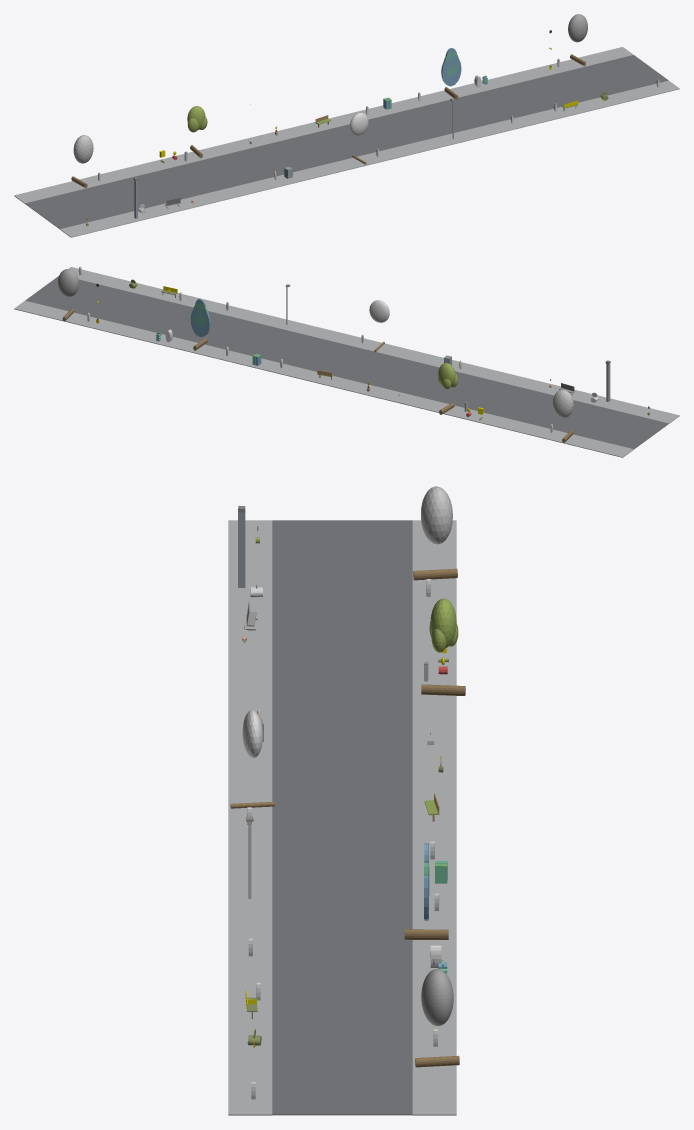
The picture shows the model from 3 angles, top to bottom: view 1: azimuth 30°, elevation 25°; view 2: azimuth 150°, elevation 25°; view 3: azimuth 270°, elevation 25°; orthographic projection. The views are drawn at different scales.
Visible parts, largest first — view 1: road_slab, sidewalk_left, sidewalk_right, inst_0015, inst_0012, inst_0016, inst_0013, inst_0014; view 2: road_slab, sidewalk_right, sidewalk_left, inst_0015, inst_0012, inst_0016, inst_0013, inst_0014; view 3: road_slab, sidewalk_left, sidewalk_right, inst_0012, inst_0016, inst_0013, inst_0014, inst_0015.
Part boxes in pixels (x1,y1,x2,y2): road_slab: (25,55,668,229); sidewalk_left: (60,80,679,237); sidewalk_right: (14,47,633,203); inst_0015: (441,48,461,99); inst_0012: (71,135,93,188); inst_0016: (568,14,587,66); inst_0013: (187,106,207,158); inst_0014: (350,112,368,164); road_slab: (25,276,668,449); sidewalk_right: (14,300,633,457); sidewalk_left: (68,267,679,423); inst_0015: (190,298,210,350); inst_0012: (552,389,573,442); inst_0016: (58,269,78,321); inst_0013: (438,363,457,414); inst_0014: (369,300,389,352); road_slab: (272,520,412,1115); sidewalk_left: (228,520,272,1115); sidewalk_right: (412,520,456,1115); inst_0012: (413,486,457,580); inst_0016: (415,969,459,1067); inst_0013: (421,598,465,695); inst_0014: (230,710,274,808); inst_0015: (404,843,448,939).
Size of the model in its own units: 80 by 6.08 by 13.51.
